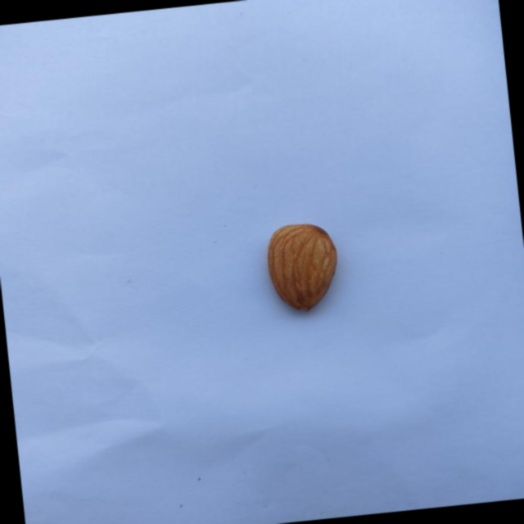grade1: (255, 215, 348, 322)
